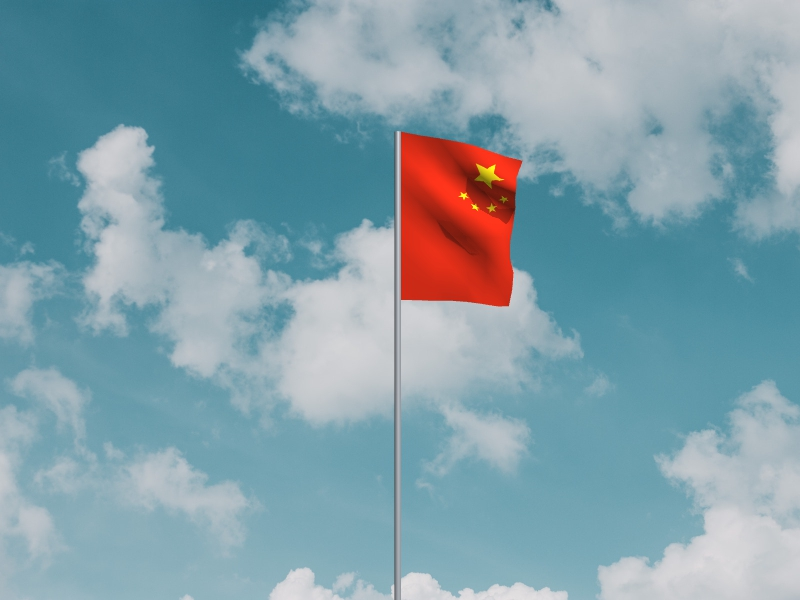cn: (402, 132, 524, 308)
